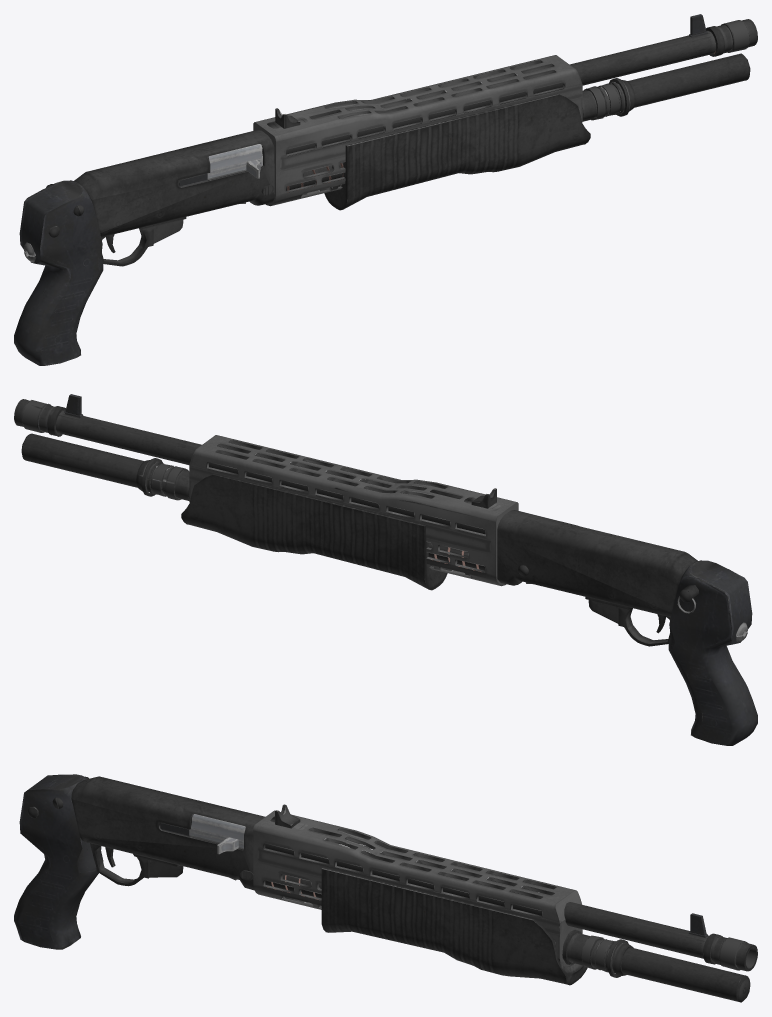
The model's file is tatical_shotgun.fbx.
3 renders of one model, top to bottom at view 1: azimuth 30°, elevation 25°; view 2: azimuth 150°, elevation 25°; view 3: azimuth 330°, elevation 25°, orthographic.
Parts seen in each view (by area): view 1: combat_shotgun.001; view 2: combat_shotgun.001; view 3: combat_shotgun.001.
Part boxes in pixels (box(x1,y1,x2,y2)): combat_shotgun.001: box(14, 14, 757, 365); combat_shotgun.001: box(14, 394, 757, 745); combat_shotgun.001: box(14, 774, 757, 1002).
Bounding box in the file's own units: 157 × 38.46 × 14.47.
1 material, 1 textured.
